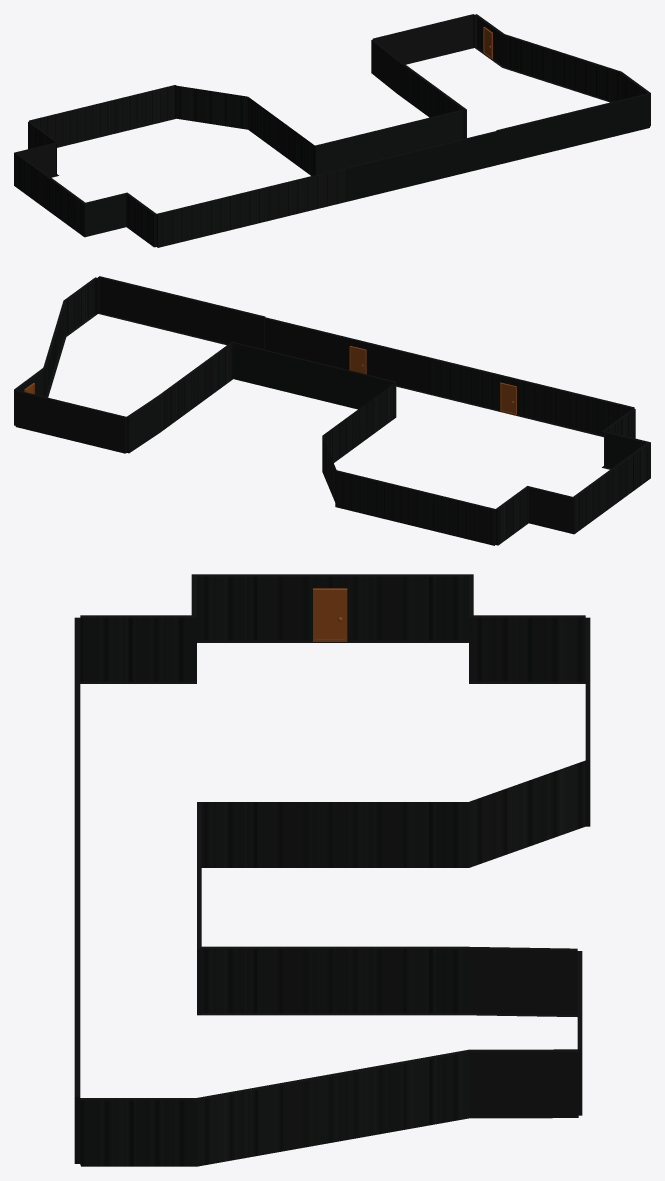
The model's file is office.dae.
3 views of the same model, one above another, from view 1: azimuth 30°, elevation 25°; view 2: azimuth 150°, elevation 25°; view 3: azimuth 270°, elevation 25° (orthographic). The views are drawn at different scales.
Parts seen in each view (by area): view 1: Plane.001; view 2: Plane.001, Cube.001, Cube; view 3: Plane.001, Cube.002.
Boxes of the visible parts, x1,y1,x2,y2 form: Plane.001: (14, 14, 650, 247); Plane.001: (14, 276, 650, 545); Cube.001: (500, 382, 516, 415); Cube: (349, 346, 366, 374); Plane.001: (74, 574, 590, 1166); Cube.002: (313, 588, 347, 641).
Bounding box in the file's own units: 36.82 × 15.25 × 2.21.
